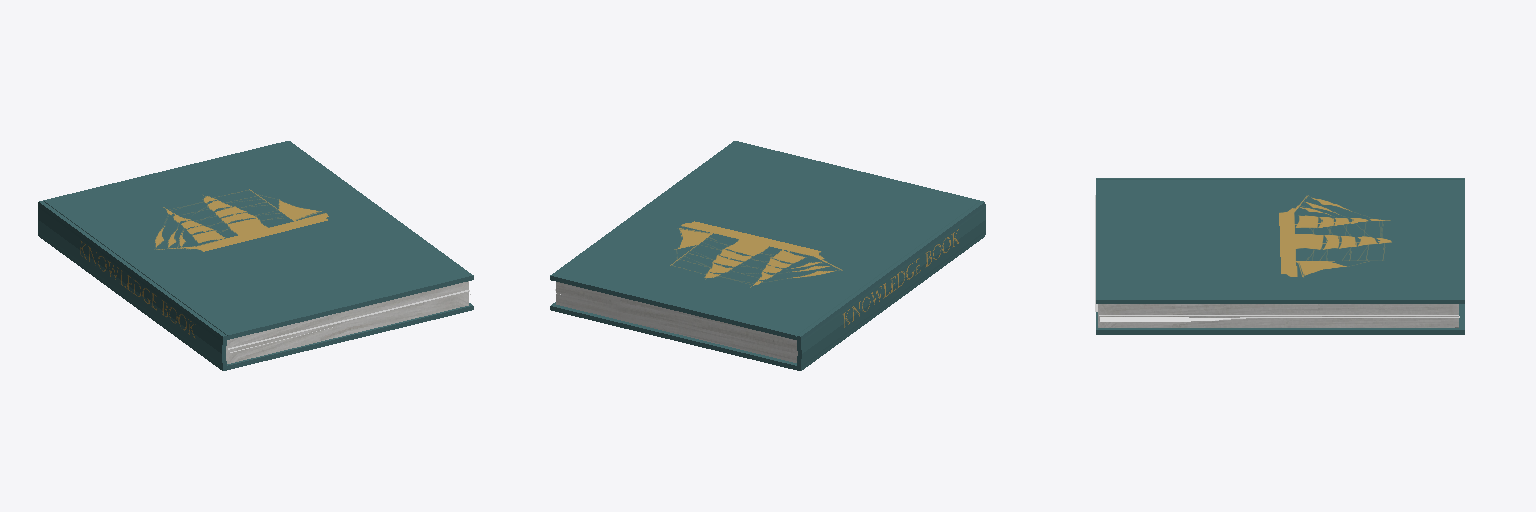
3 views of the same model, side by side, from view 1: azimuth 30°, elevation 25°; view 2: azimuth 150°, elevation 25°; view 3: azimuth 270°, elevation 25° (orthographic).
Parts seen in each view (by area): view 1: texkbook; view 2: texkbook; view 3: texkbook.
Boxes of the visible parts, box(x1,y1,x2,y2) form: texkbook: box(38, 141, 473, 370); texkbook: box(550, 141, 985, 370); texkbook: box(1095, 178, 1464, 334).
Size of the model in its own units: 22.42 by 2.95 by 28.45.
Materials: 1 (1 with a texture image).